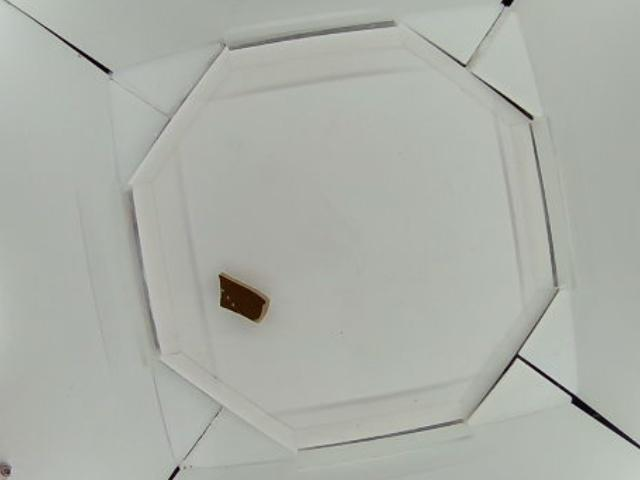China: (210, 267, 272, 323)
